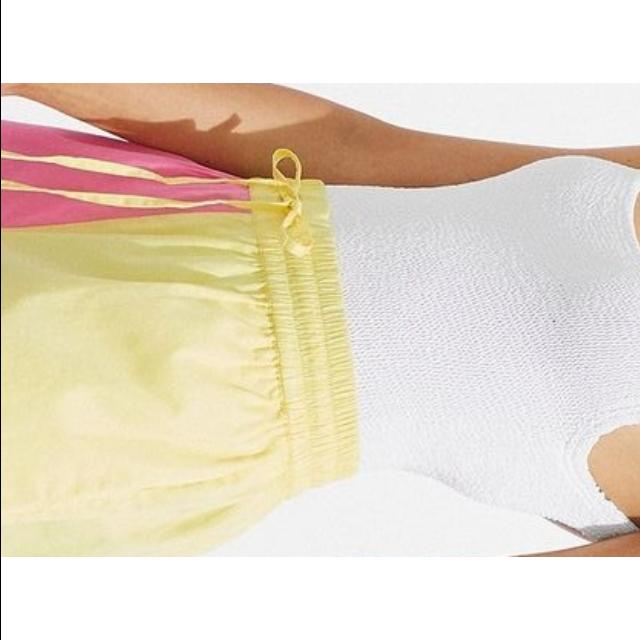linen: (1, 83, 318, 557)
